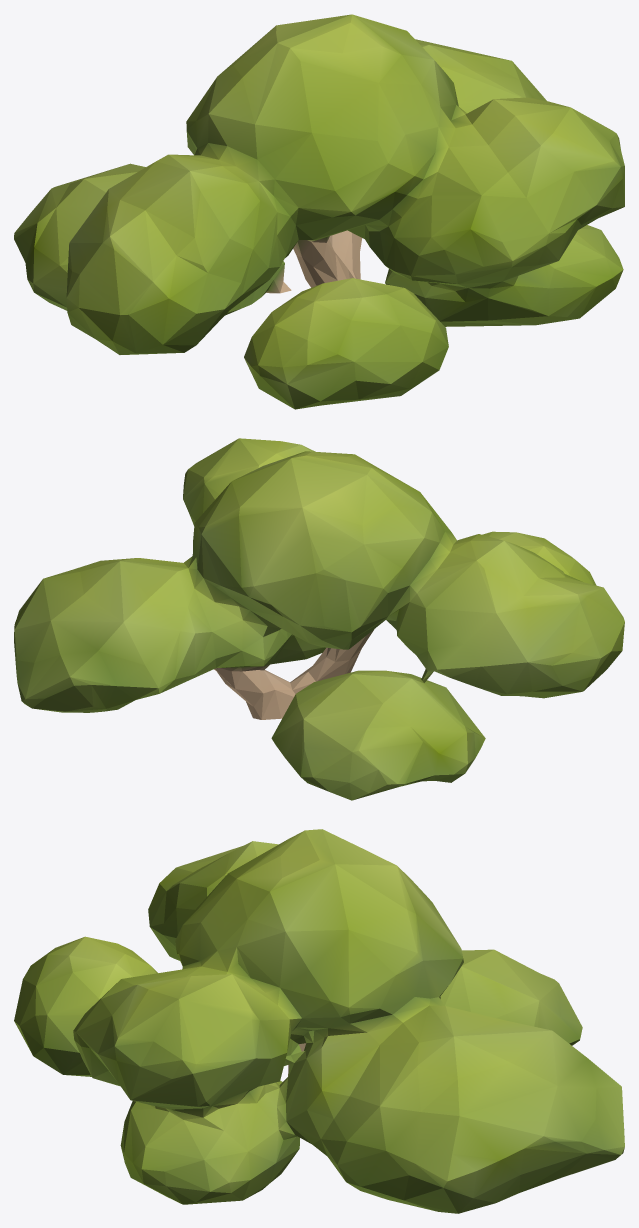
Rendered from shrub.glb.
3 views of the same model, one above another, from view 1: azimuth 30°, elevation 25°; view 2: azimuth 150°, elevation 25°; view 3: azimuth 270°, elevation 25° (orthographic). The views are drawn at different scales.
Visible parts, largest first — view 1: shrub; view 2: shrub; view 3: shrub.
Boxes of the visible parts, left/top/right/bottom form: shrub: left=14, top=14, right=624, bottom=409; shrub: left=14, top=438, right=624, bottom=800; shrub: left=14, top=829, right=624, bottom=1213.
Size of the model in its own units: 1.93 by 0.8969 by 1.79.
